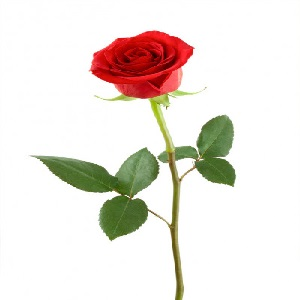rose: (94, 31, 193, 96)
